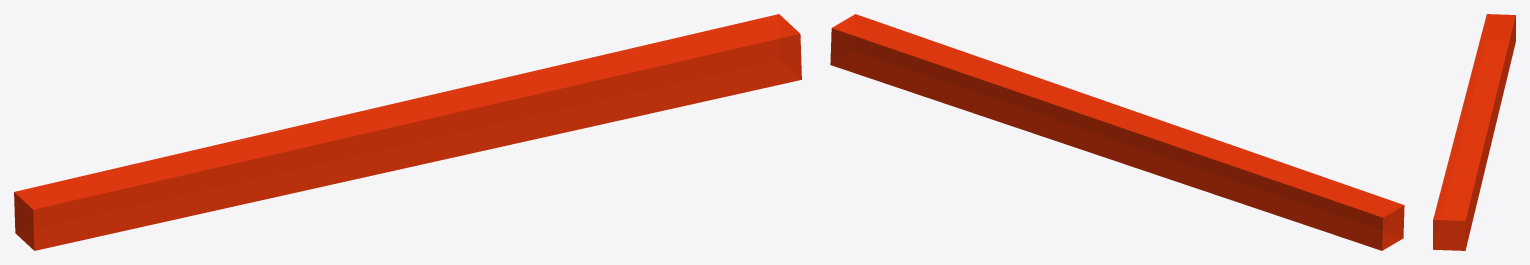
File: Event_420107950_EErechit_49.fbx
The picture shows the model from 3 angles, left to right: view 1: azimuth 30°, elevation 25°; view 2: azimuth 150°, elevation 25°; view 3: azimuth 270°, elevation 25°; orthographic projection. The views are drawn at different scales.
Visible parts, largest first — view 1: Model; view 2: Model; view 3: Model.
Boxes of the visible parts, bbox=[...] form: Model: bbox=[14, 14, 801, 250]; Model: bbox=[830, 14, 1404, 250]; Model: bbox=[1433, 14, 1515, 250].
Bounding box in the file's own units: 1.33 × 0.125 × 0.2058.
